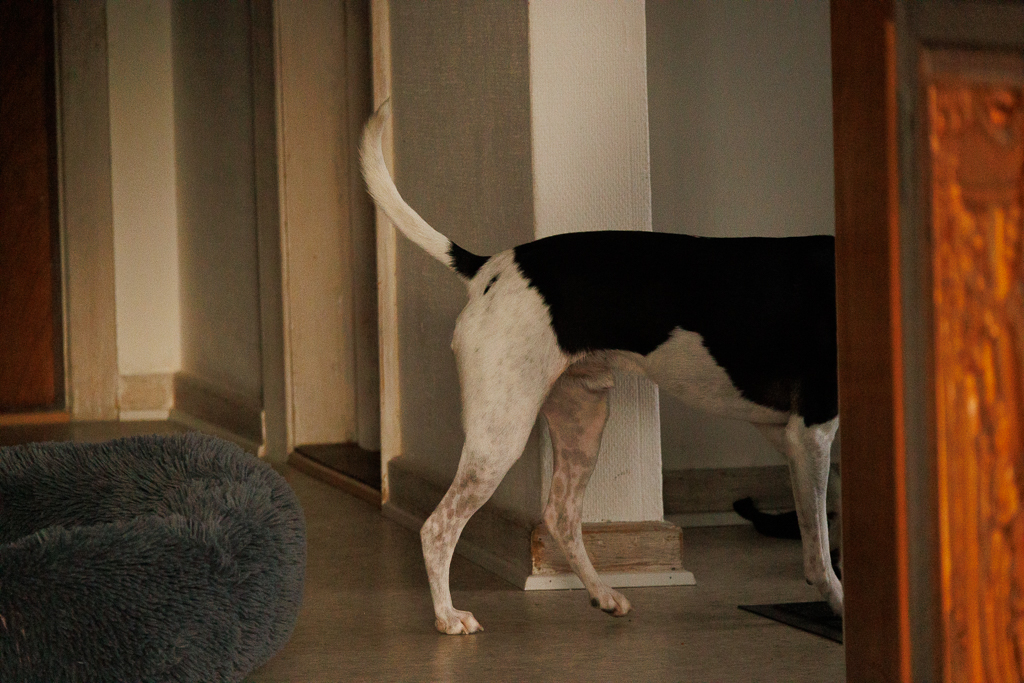Dog: (350, 86, 851, 640)
